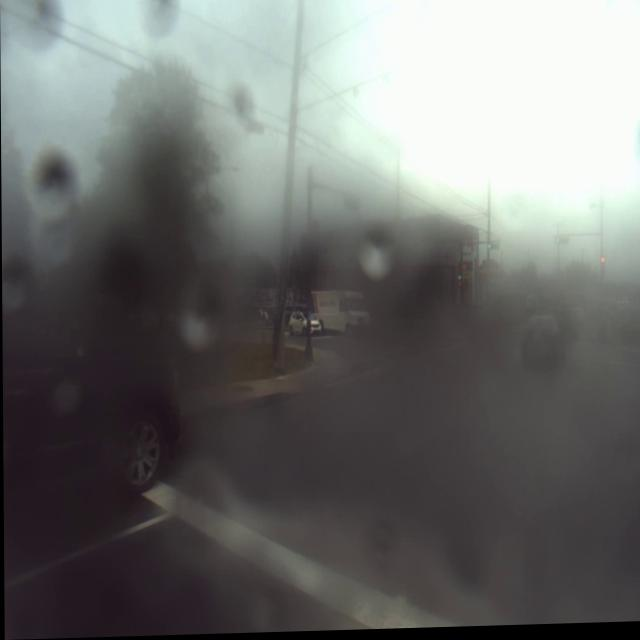car: (516, 313, 567, 380)
